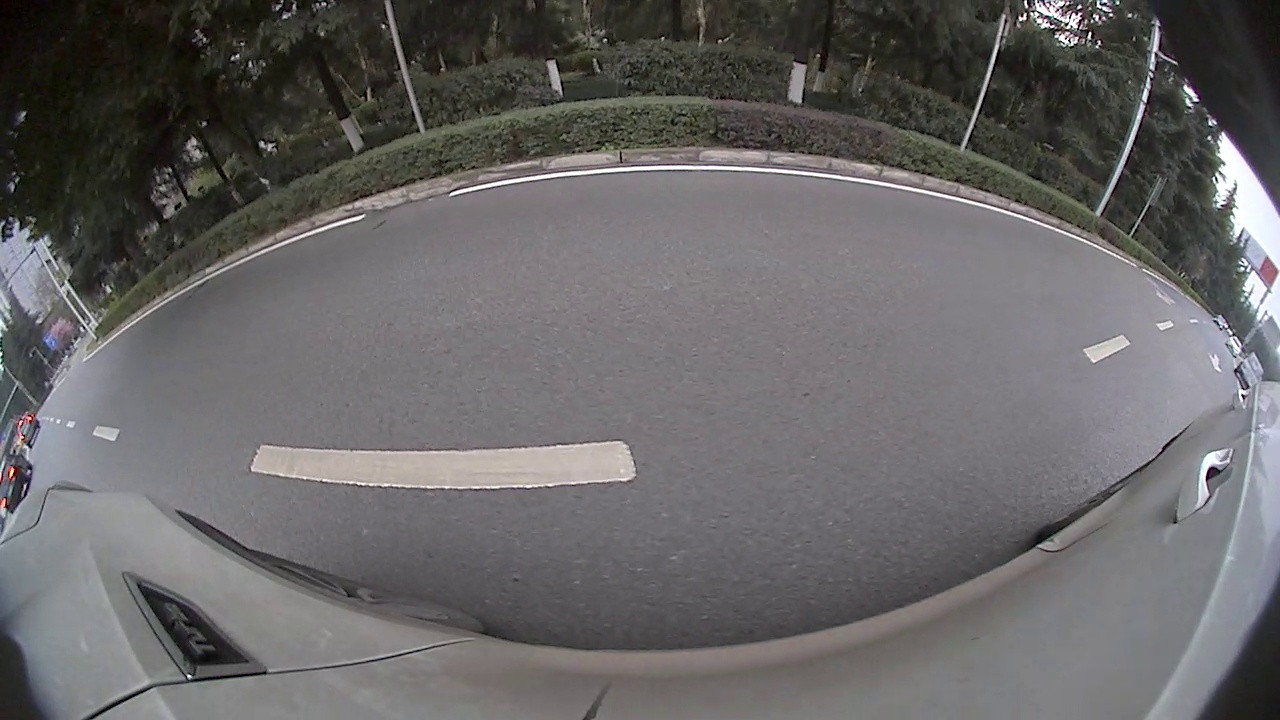bus: (956, 122, 1278, 375), (748, 77, 890, 215)
car: (526, 89, 835, 288), (415, 131, 523, 232), (870, 155, 961, 236), (1223, 358, 1279, 410)
front: (1008, 221, 1050, 269)
rear: (881, 199, 900, 225)
